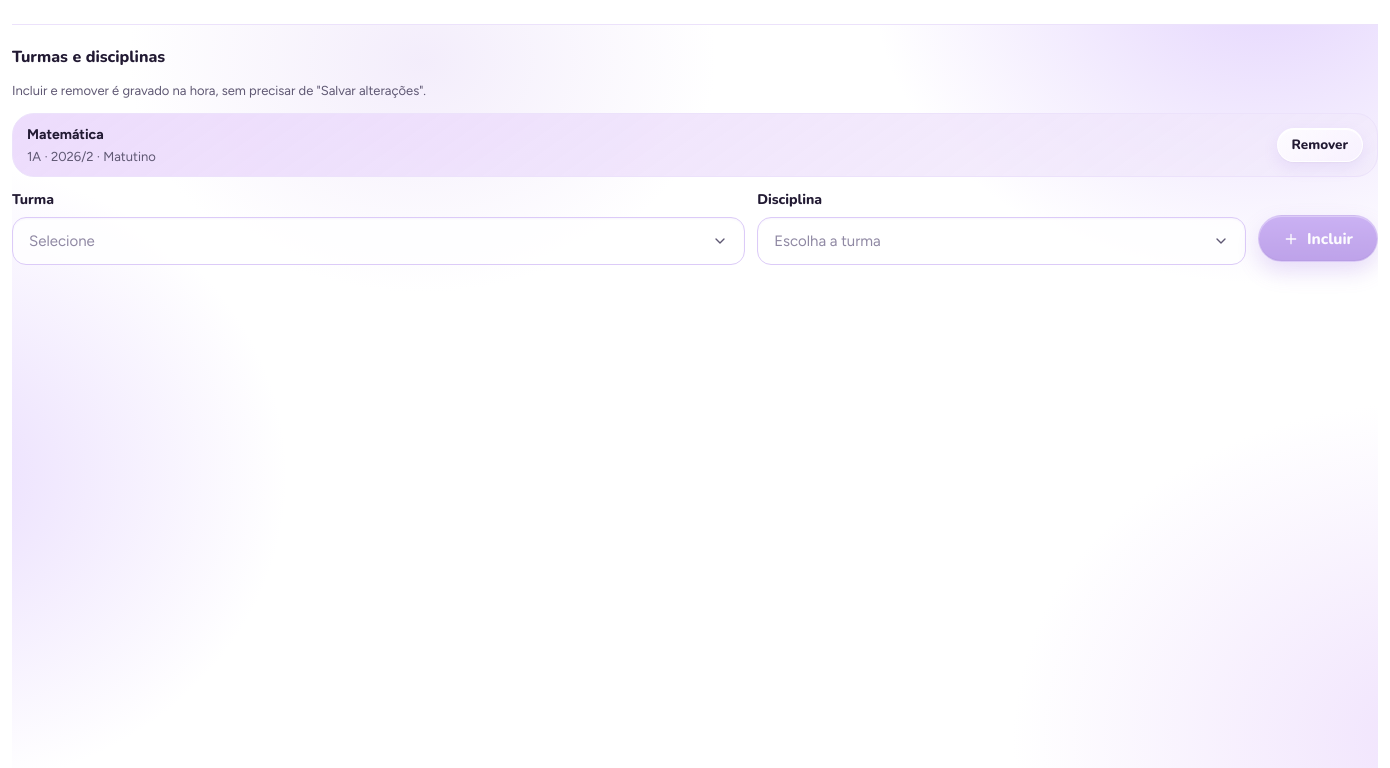
Scenario: AlocacoesDoProfessor › avisa quando outra pessoa alocou a disciplina antes
Click the dropdown named "Turma". click: click(62, 241)
box: x1=12 y1=217 x2=745 y2=265
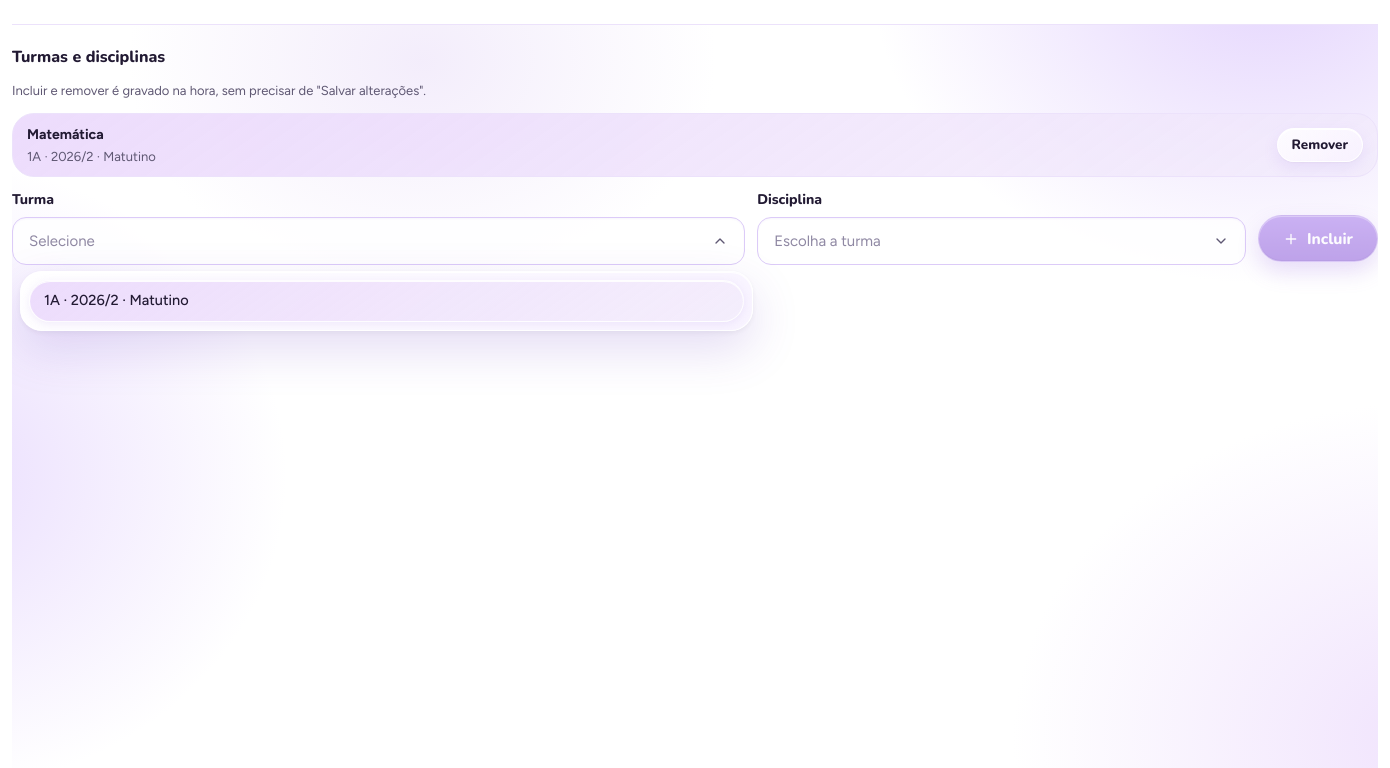
Click the option "1A · 2026/2 · Matutino". click: click(116, 300)
box: x1=29 y1=280 x2=744 y2=322
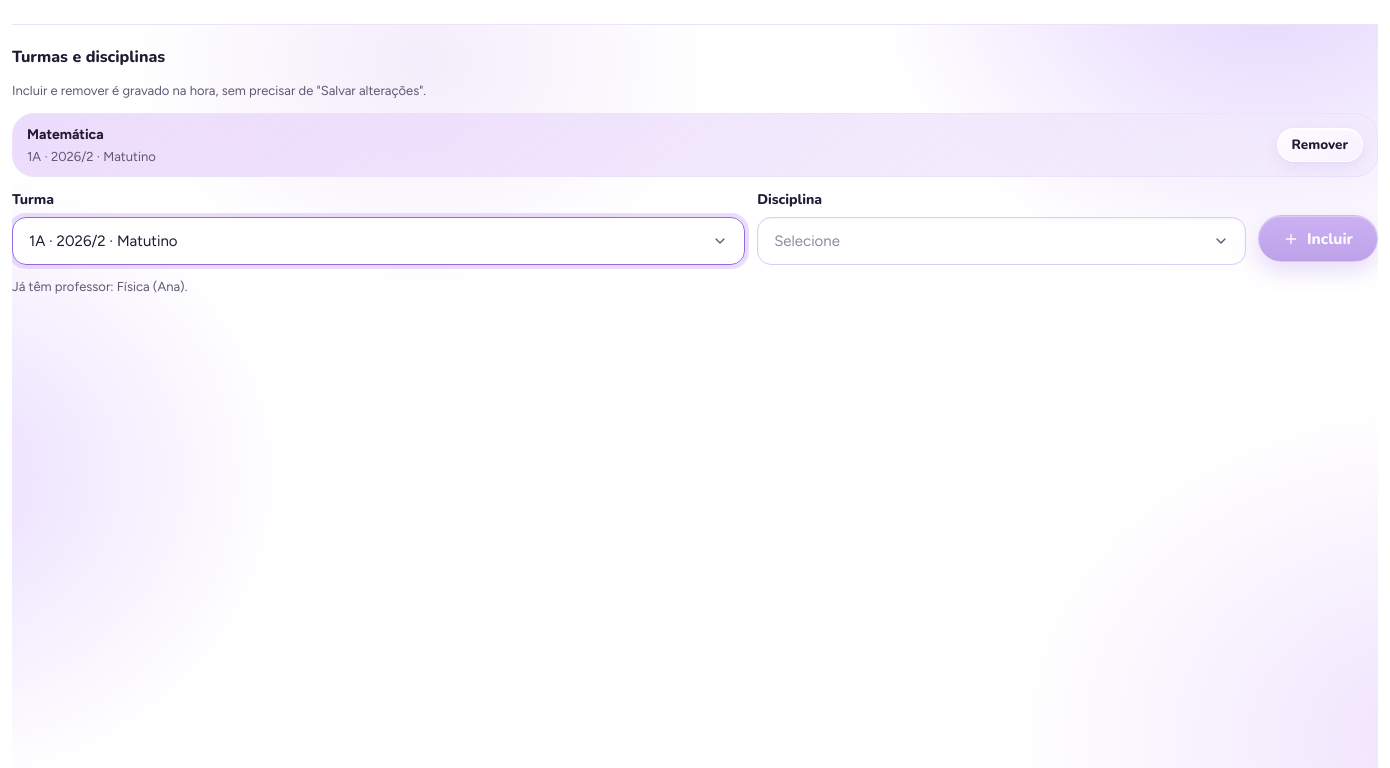
Check: the text "Já têm professor: Física (Ana)." is shown, box x1=12 y1=279 x2=187 y2=294
Click the dropdown named "Disciplina". click: click(807, 241)
box: x1=757 y1=217 x2=1246 y2=265
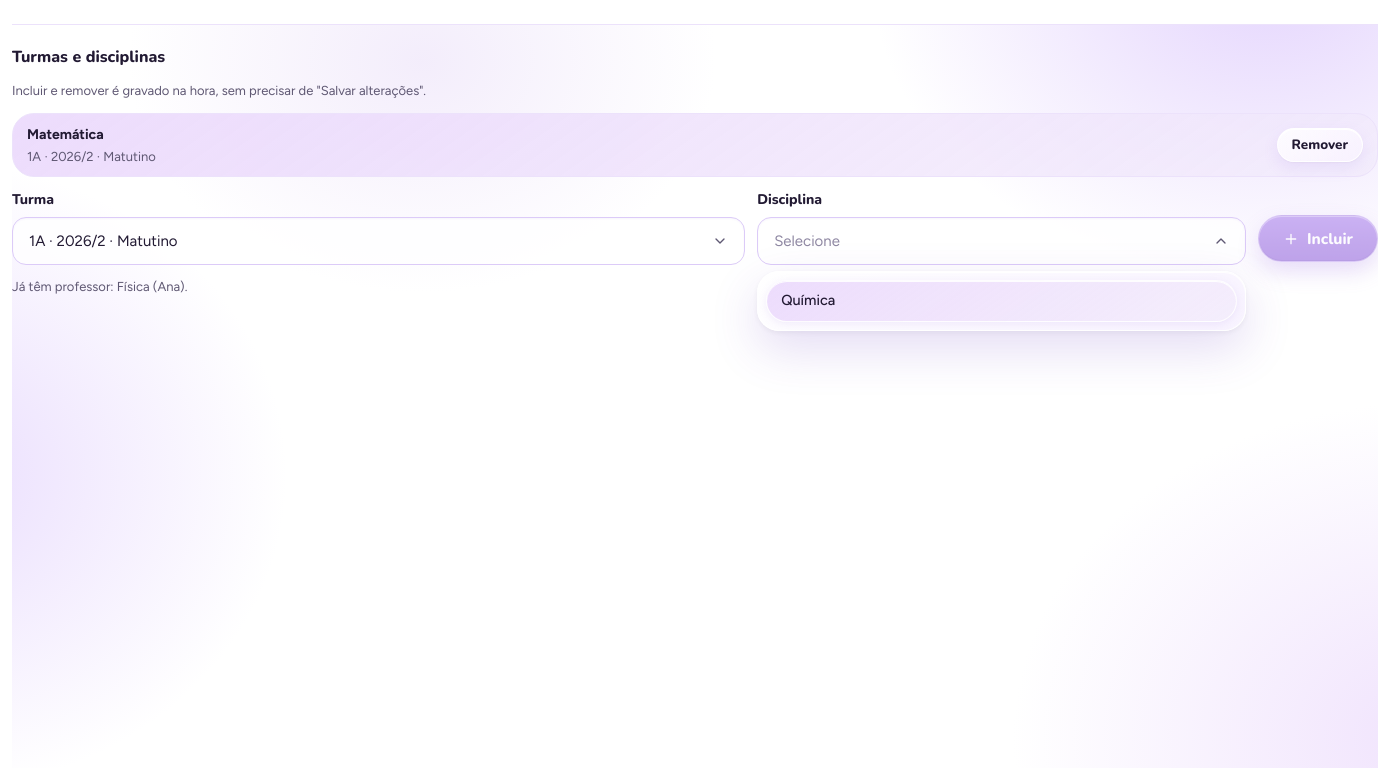
Click the option "Química". click: click(808, 300)
box: x1=766 y1=280 x2=1237 y2=322
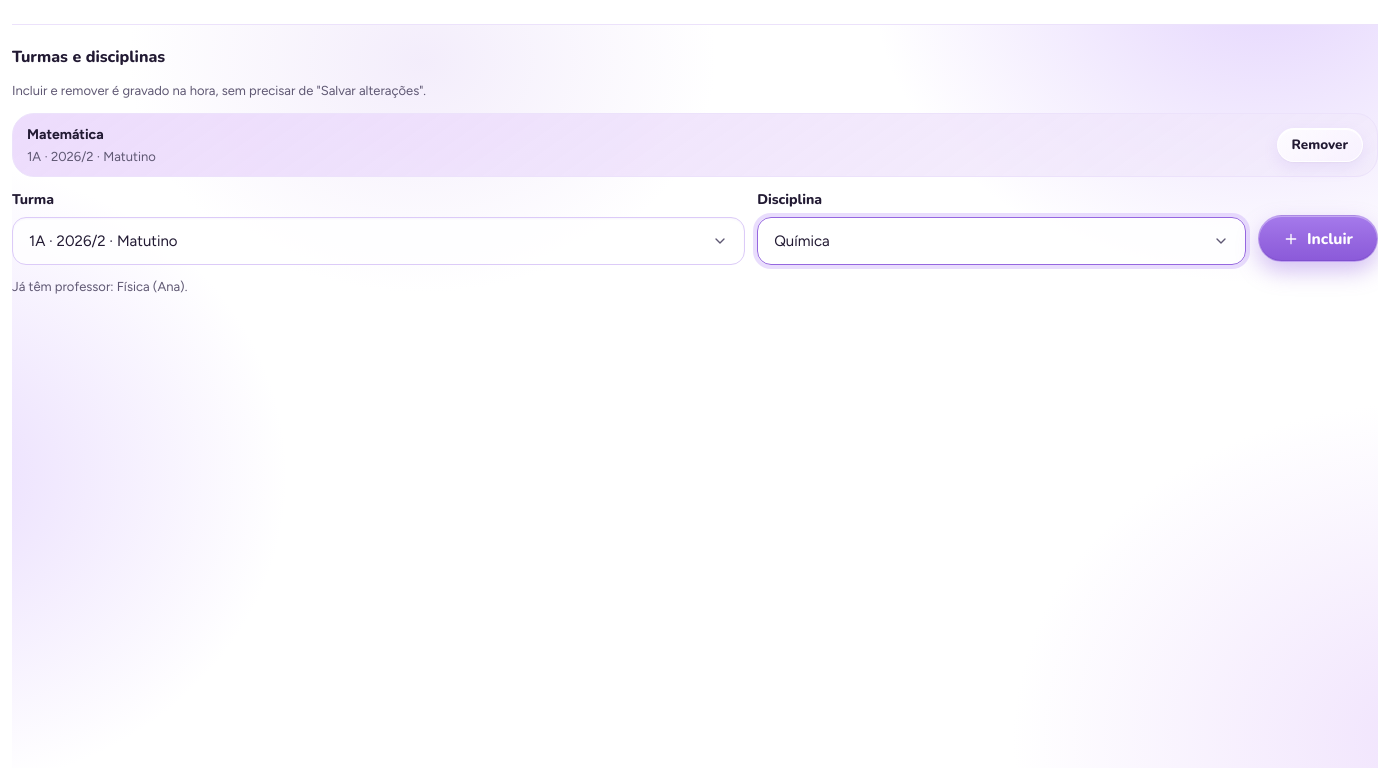
Click the button "Incluir". click: click(1318, 239)
box: x1=1258 y1=215 x2=1378 y2=262
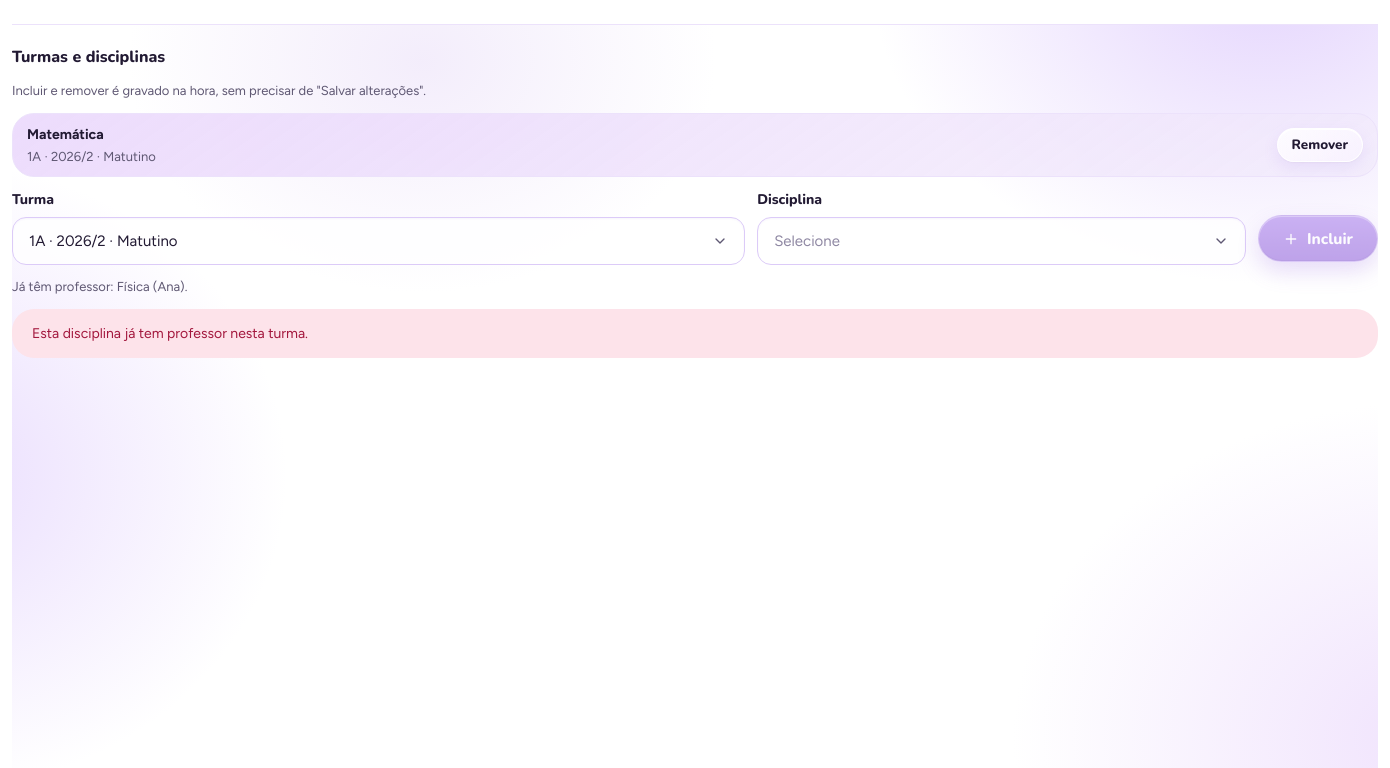
Check: the message reads "Esta disciplina já tem professor nesta turma.", box x1=32 y1=324 x2=308 y2=342
Check: the button "Incluir" is disabled, box x1=1258 y1=215 x2=1378 y2=262
